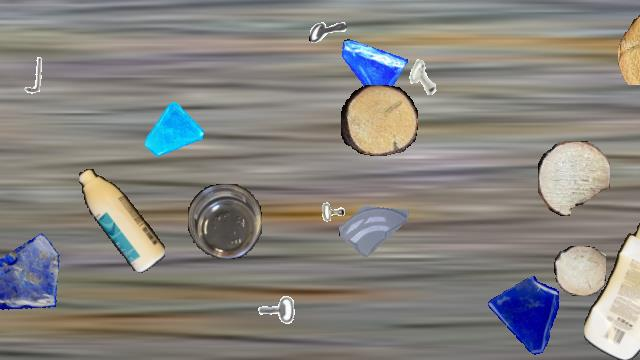glass: (484, 275, 568, 359), (0, 227, 65, 313), (339, 189, 411, 261), (338, 36, 408, 106), (145, 102, 203, 160)
metal: (398, 52, 450, 104), (247, 294, 297, 344), (306, 200, 354, 248), (12, 55, 52, 95), (309, 12, 347, 50)
plastic: (79, 169, 165, 273), (584, 219, 640, 359), (188, 184, 262, 258)
wood: (538, 141, 610, 215), (341, 85, 417, 155), (554, 246, 606, 296), (618, 1, 640, 85)
